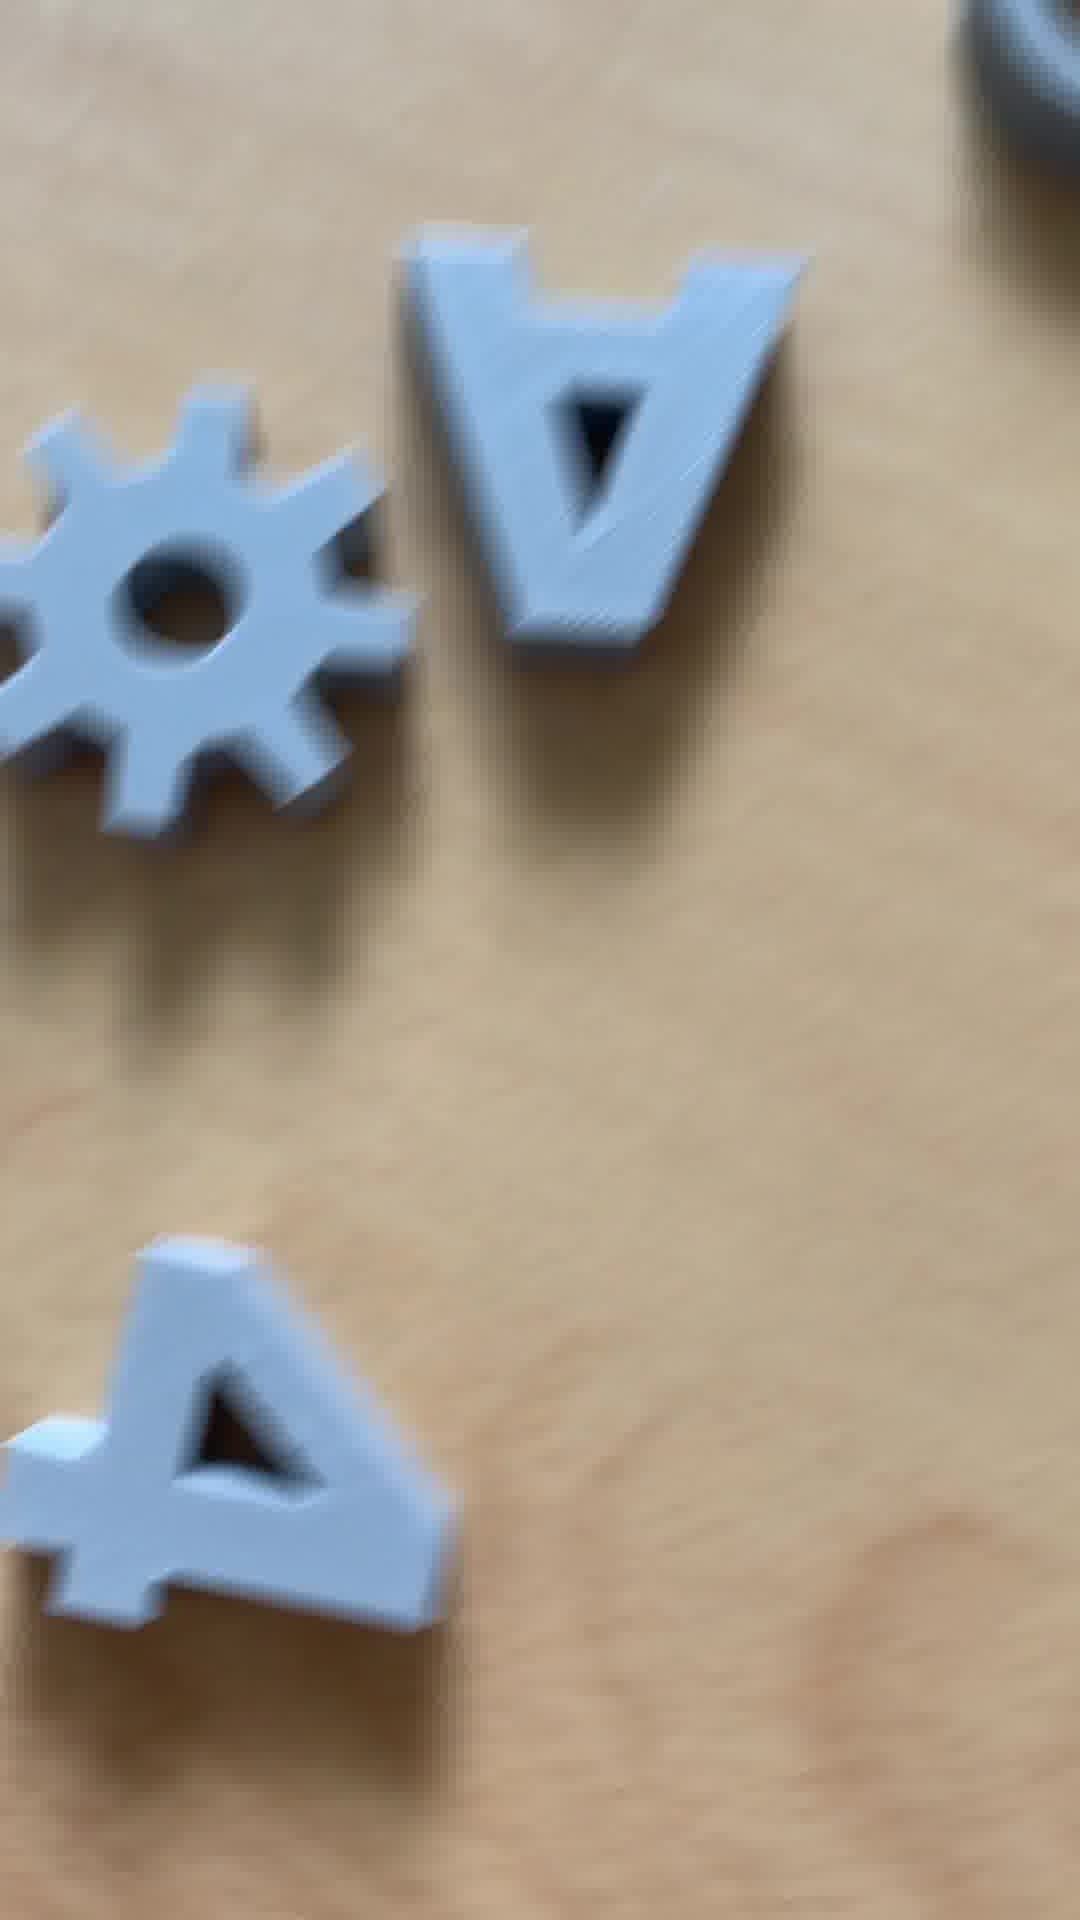Gray A-letter: (378, 224, 851, 680)
Gray four: (1, 1232, 502, 1654)
Gray gear: (1, 380, 413, 864)
